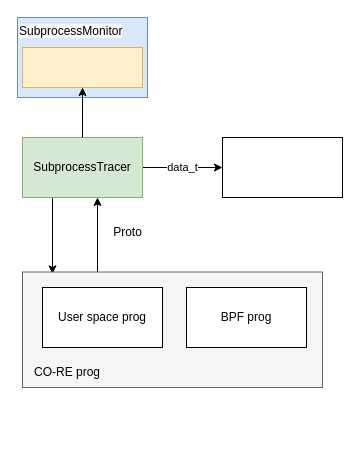
This 360x455 diagram has some shape labels left out. The centre of each missing label's shape, as x and y in pixels:
"Filter" goes at point 282,167.
"SubprocessHost" goes at point 82,67.
